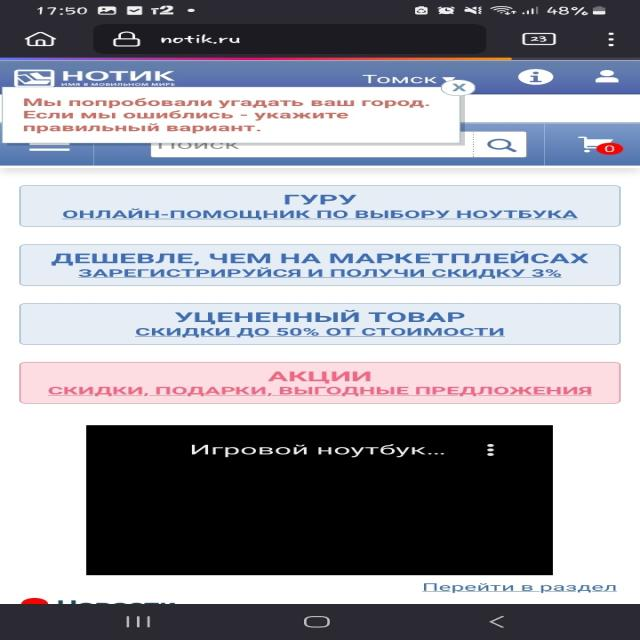button: (444, 80, 476, 95)
site: (2, 86, 466, 142)
